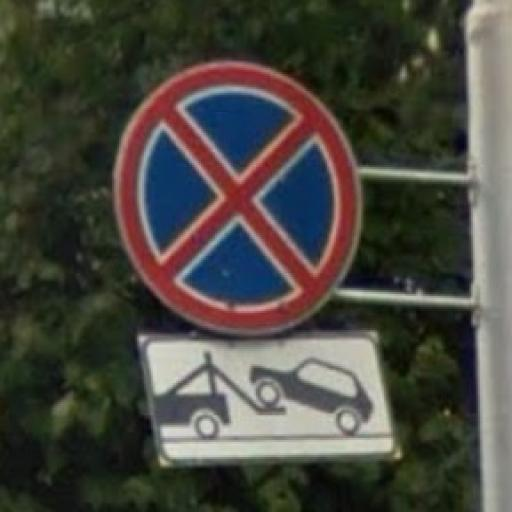traffic_sign: (113, 60, 365, 340)
